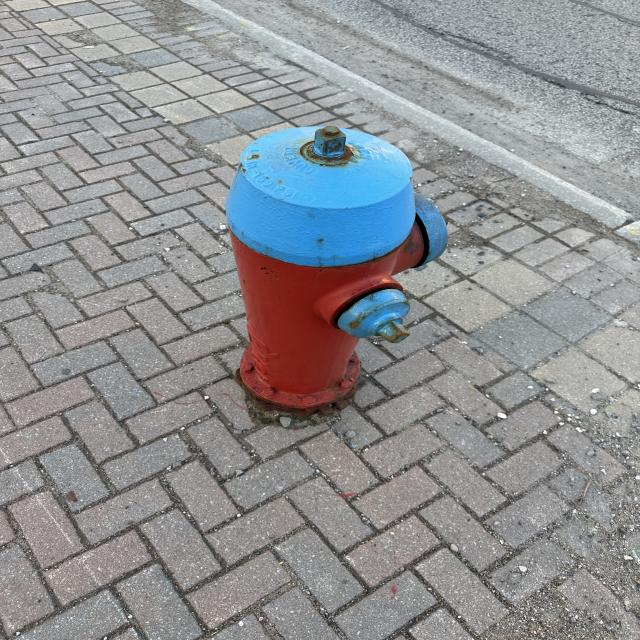Fire hydrant: (224, 126, 448, 414)
